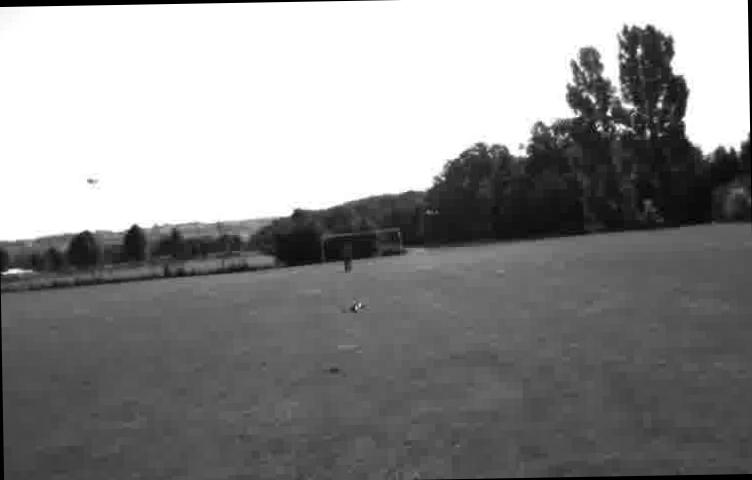drone: (342, 294, 367, 316)
